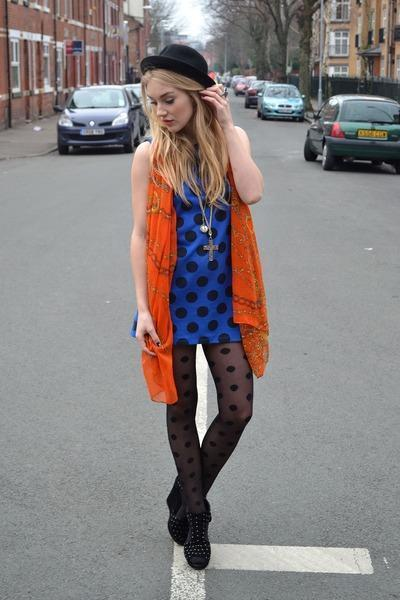dress: (169, 182, 241, 351)
hat: (141, 44, 215, 102)
shoe: (168, 517, 210, 569)
